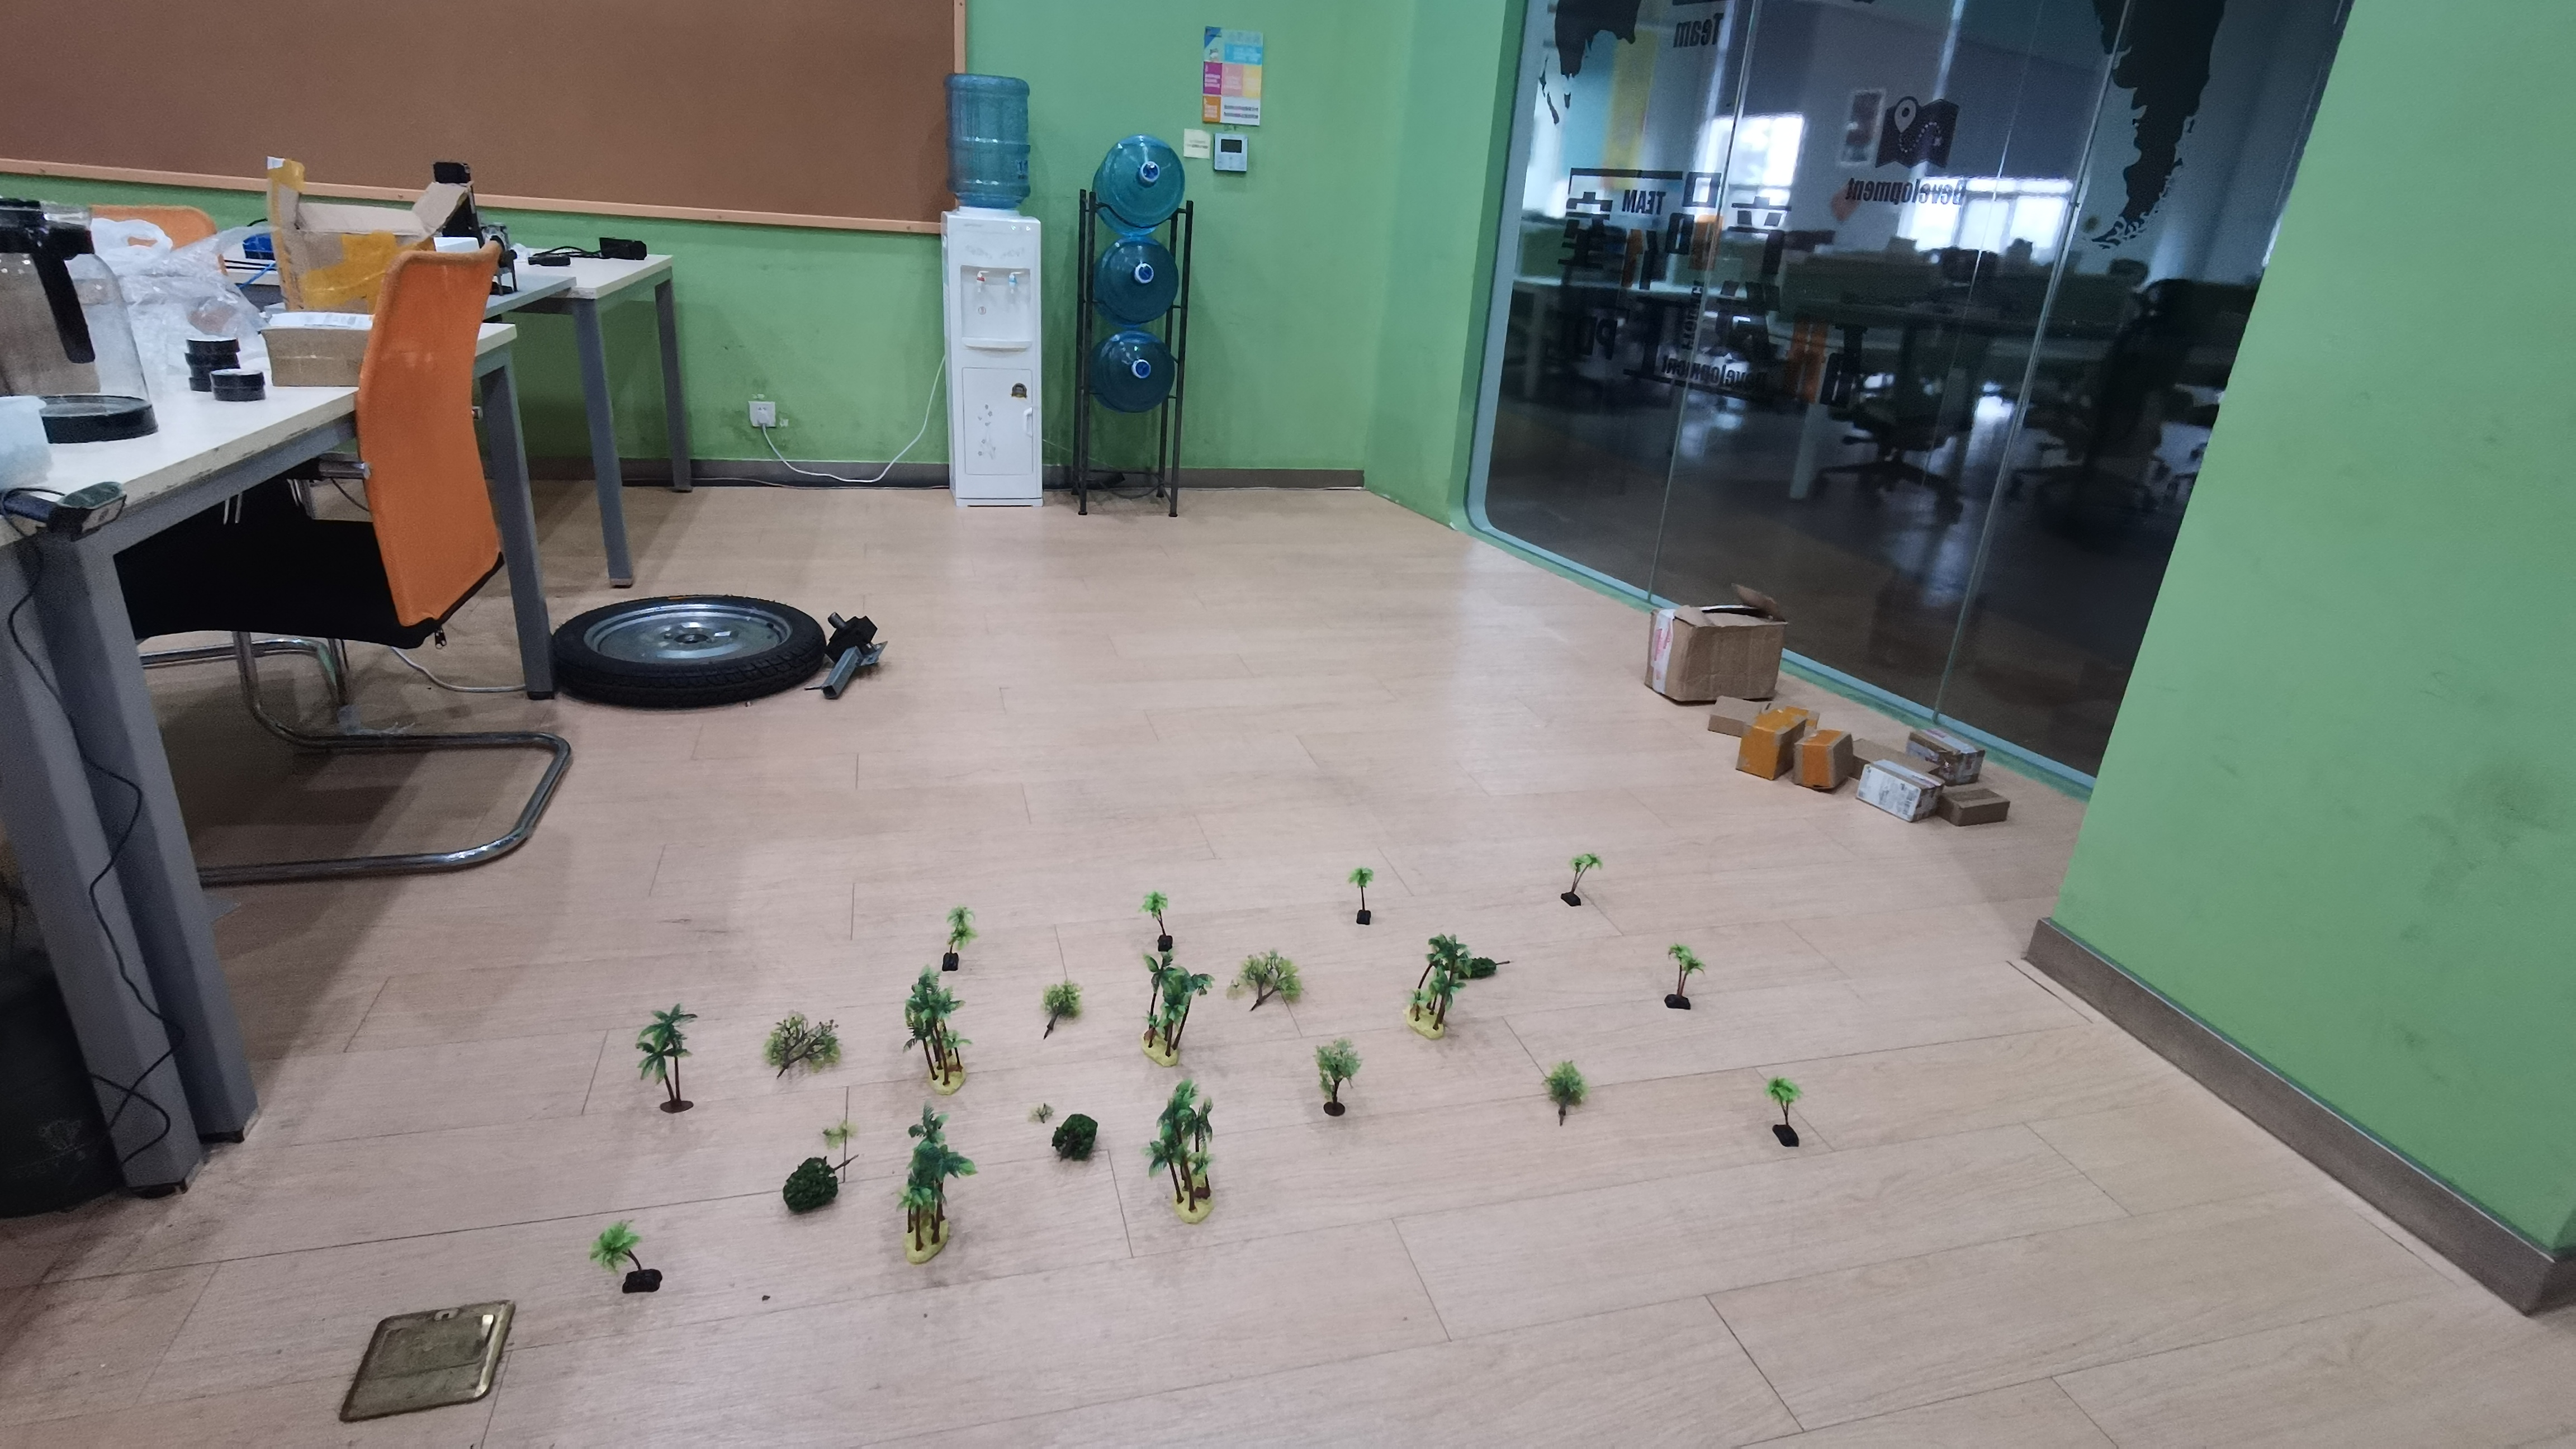corn: (873, 1093, 976, 1263), (1121, 954, 1218, 1069), (895, 974, 979, 1095), (1388, 933, 1475, 1045), (627, 998, 707, 1116), (579, 1222, 666, 1299), (1645, 933, 1720, 1021), (1756, 1073, 1818, 1155), (1542, 846, 1615, 911), (932, 898, 977, 976), (1135, 888, 1190, 952), (1336, 857, 1379, 931)
